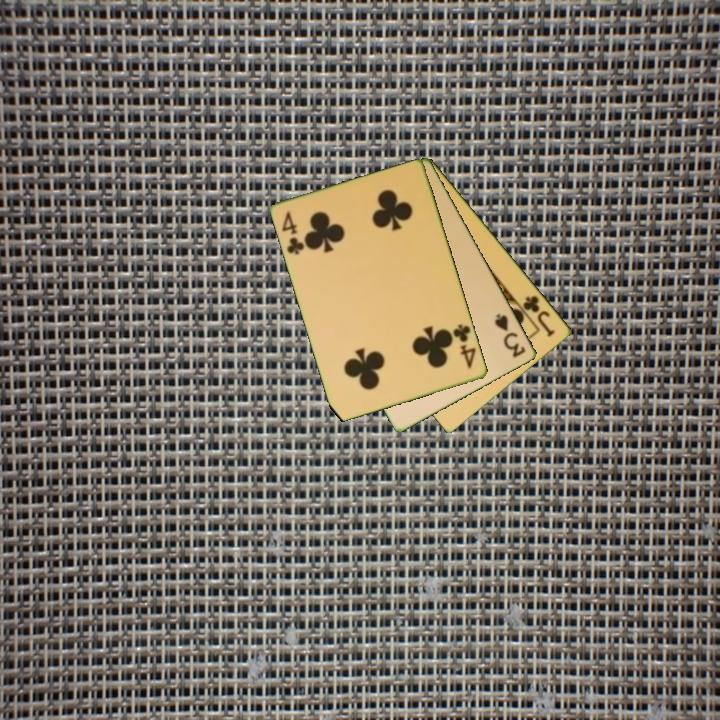3s: (491, 310, 529, 361)
4c: (278, 208, 308, 258), (450, 321, 479, 372)
Jc: (519, 292, 558, 340)
